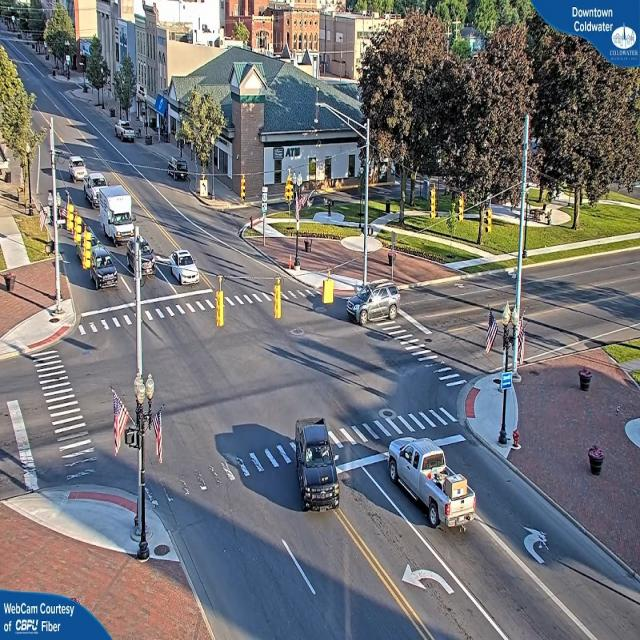car: (384, 439, 476, 536), (298, 418, 340, 508), (346, 281, 402, 326), (126, 236, 156, 284), (165, 250, 200, 287), (88, 248, 116, 286), (586, 442, 606, 476), (117, 123, 136, 143)
truck: (95, 181, 137, 246)
